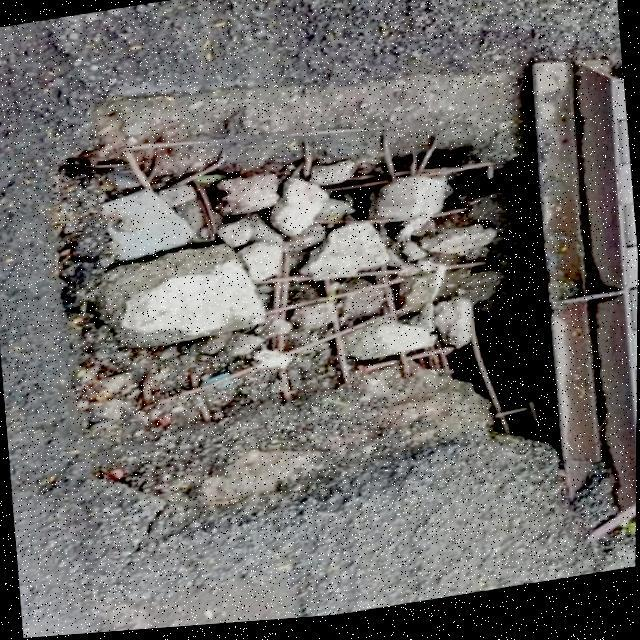pothole: (49, 70, 567, 544)
